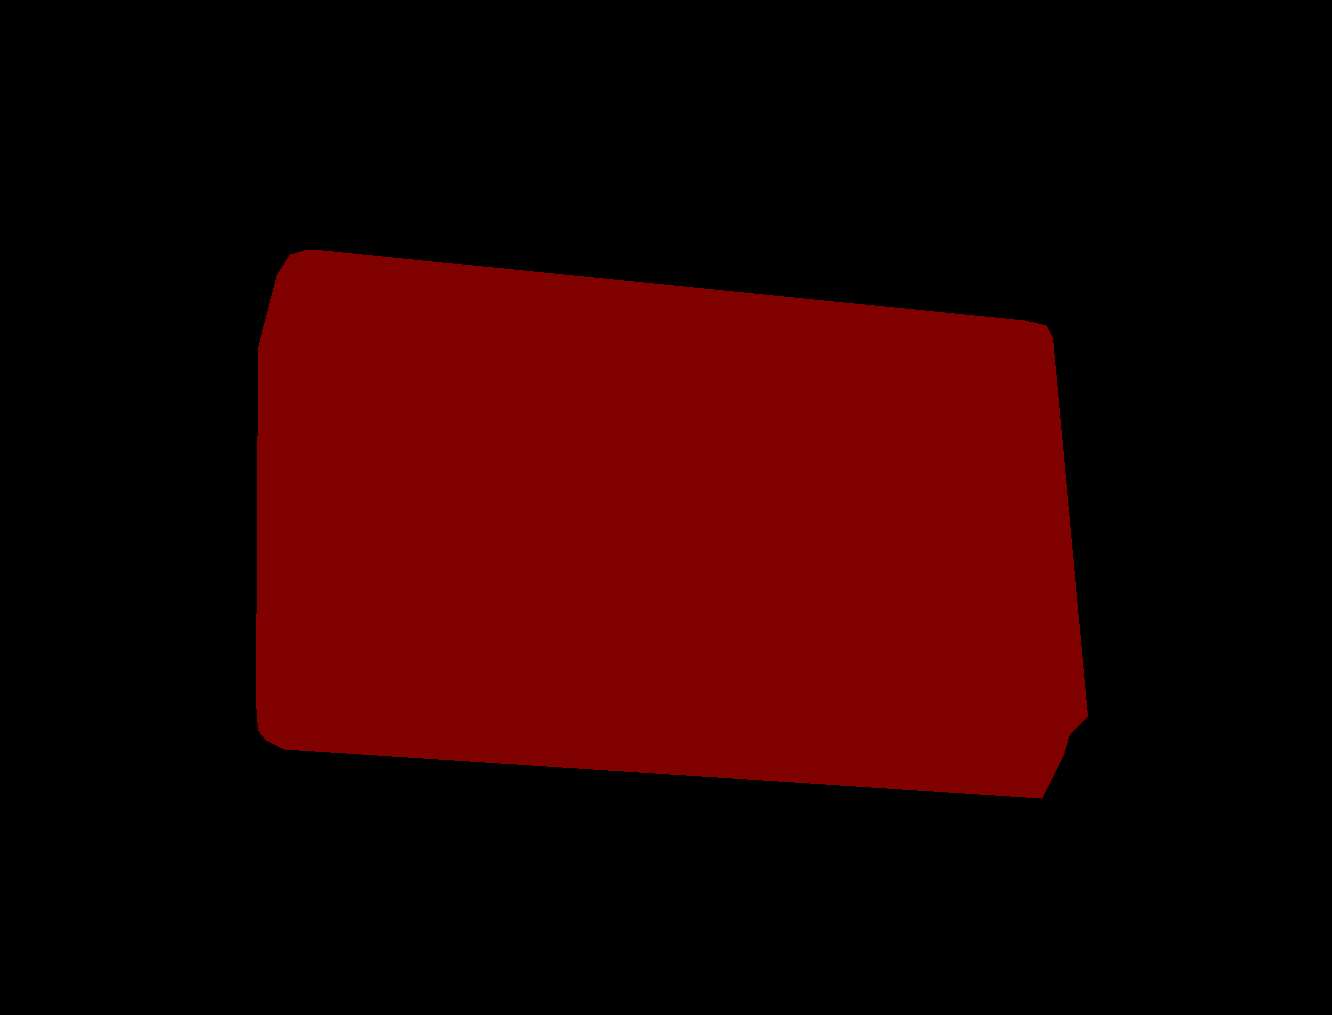sign: (256, 249, 1087, 797)
